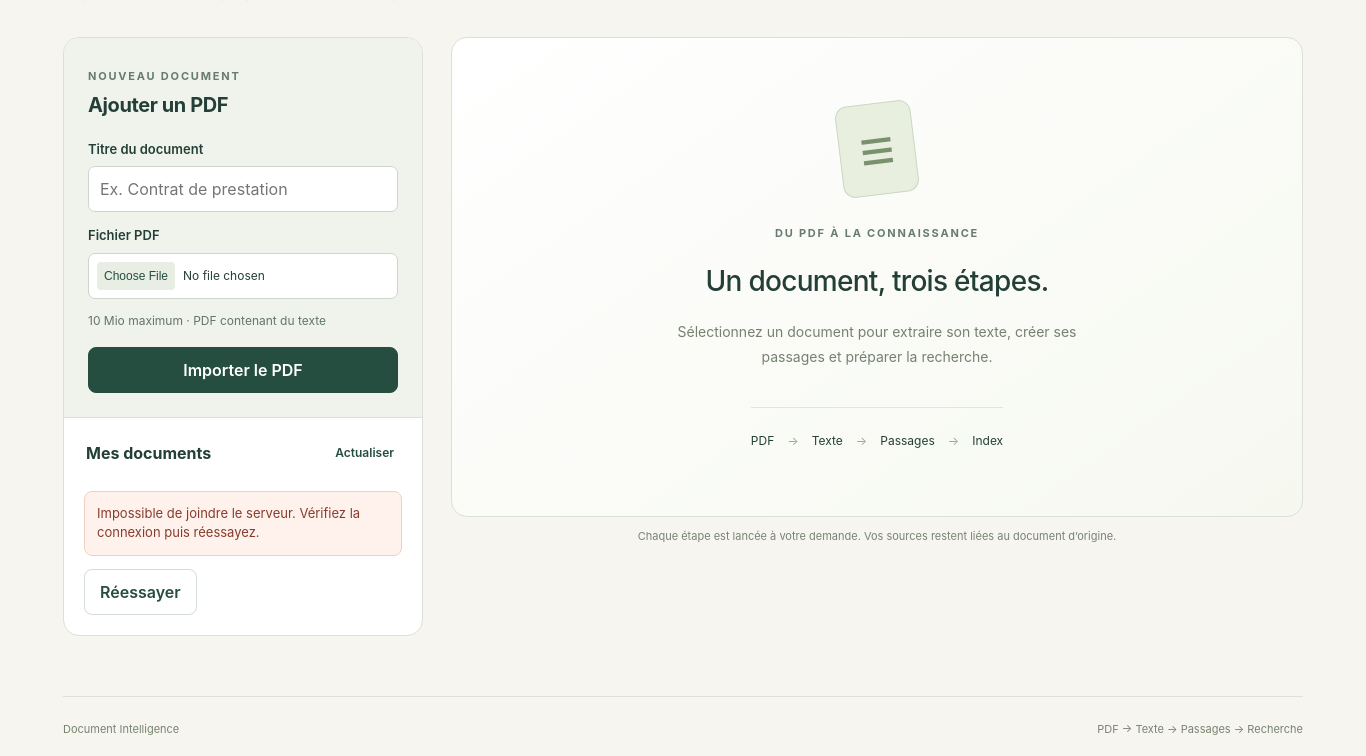
Test: Documents › shows a retry action when the library is unavailable
This screenshot has width=1366, height=756.
(page scrolled)
Expected: the message shows "Impossible de joindre", [97,505,360,540]
Click the button "Réessayer" at (140, 592), box [84,569,197,615]
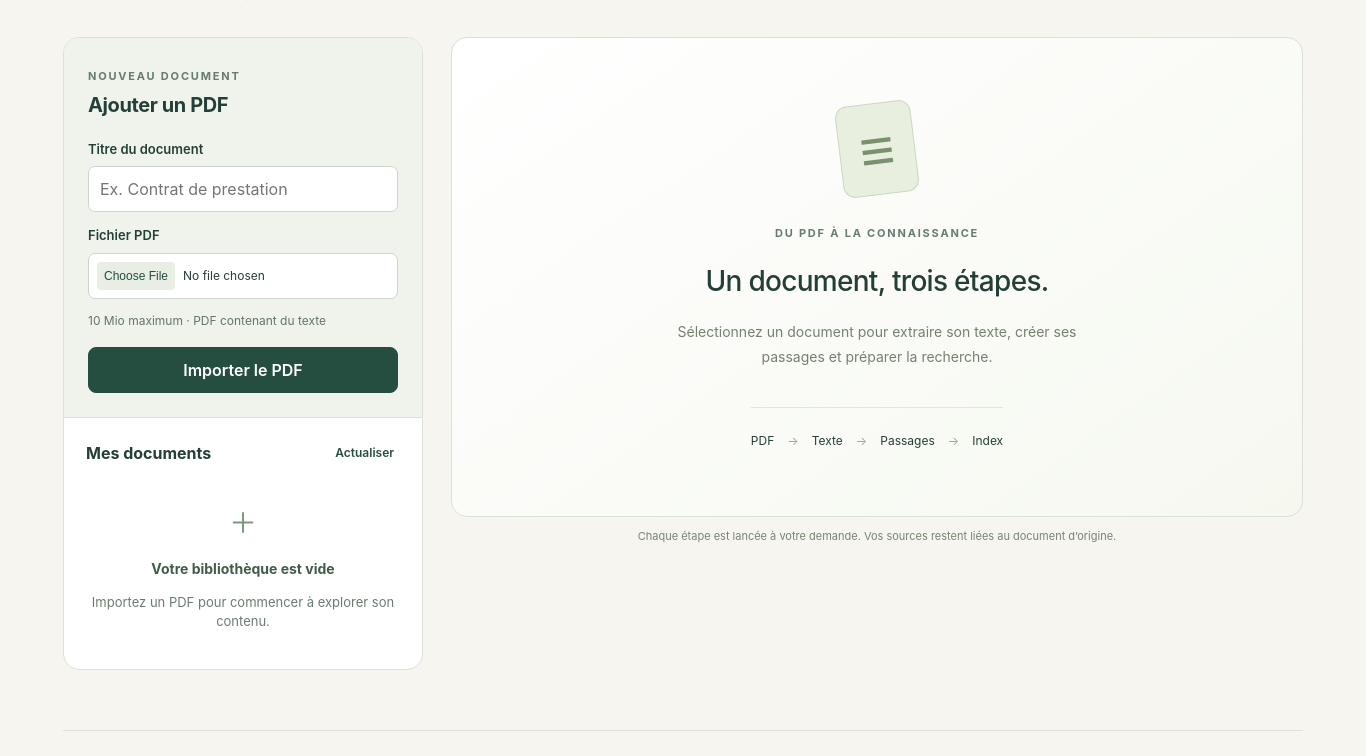
Expected: the heading "Votre bibliothèque est vide" is shown, [151,560,335,577]
